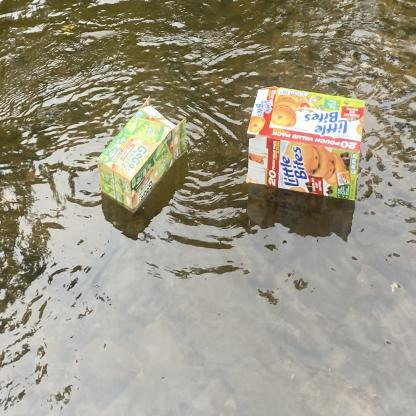trash: (242, 81, 370, 206), (95, 88, 193, 220)
